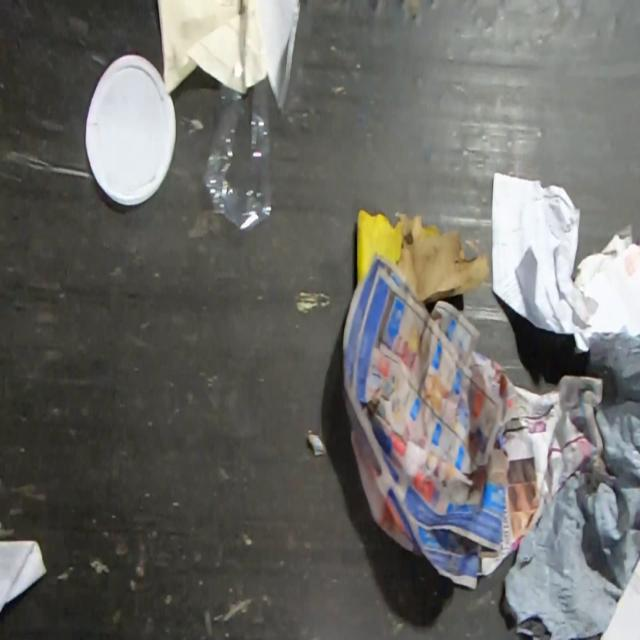cardboard: (355, 206, 490, 307)
rigid_plastic: (84, 52, 177, 207)
soft_plastic: (501, 330, 640, 640), (202, 42, 274, 236)
